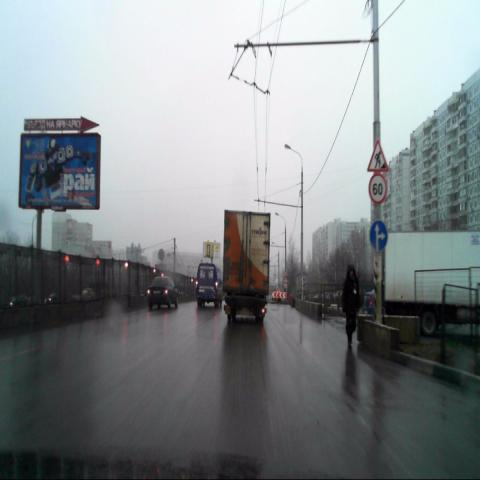4_1_4: (370, 221, 388, 253)
